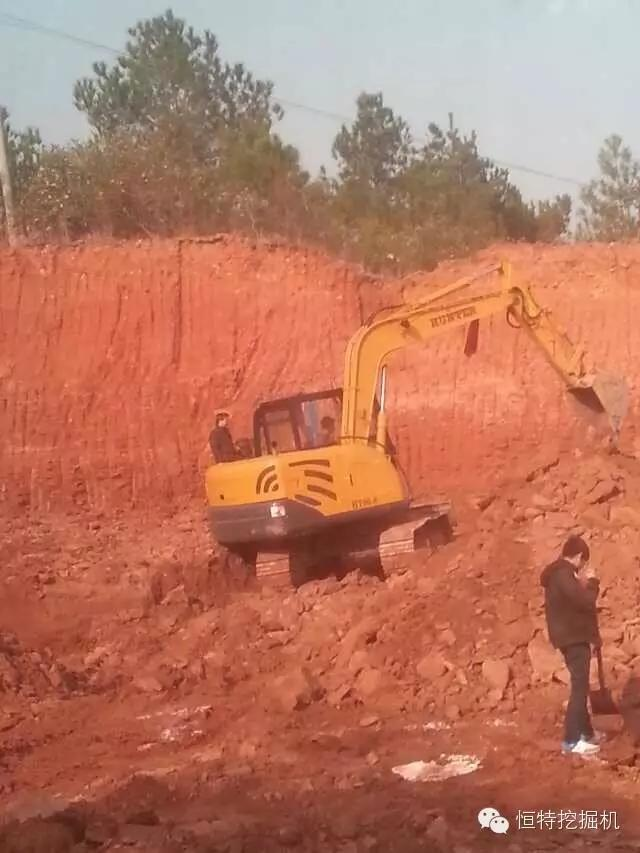excavator: (204, 266, 605, 553)
